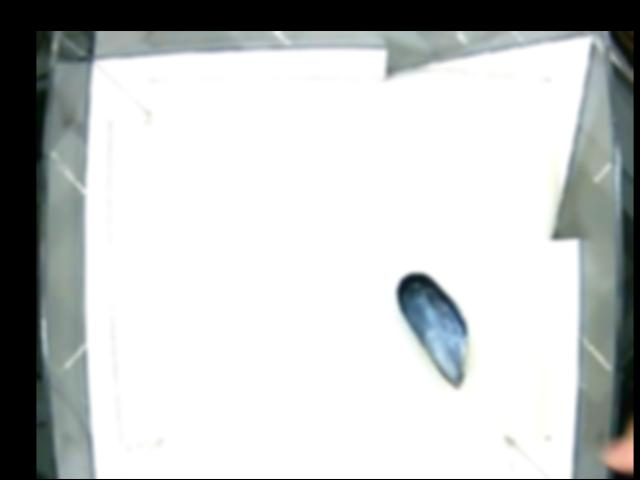Shell: (394, 268, 470, 387)
